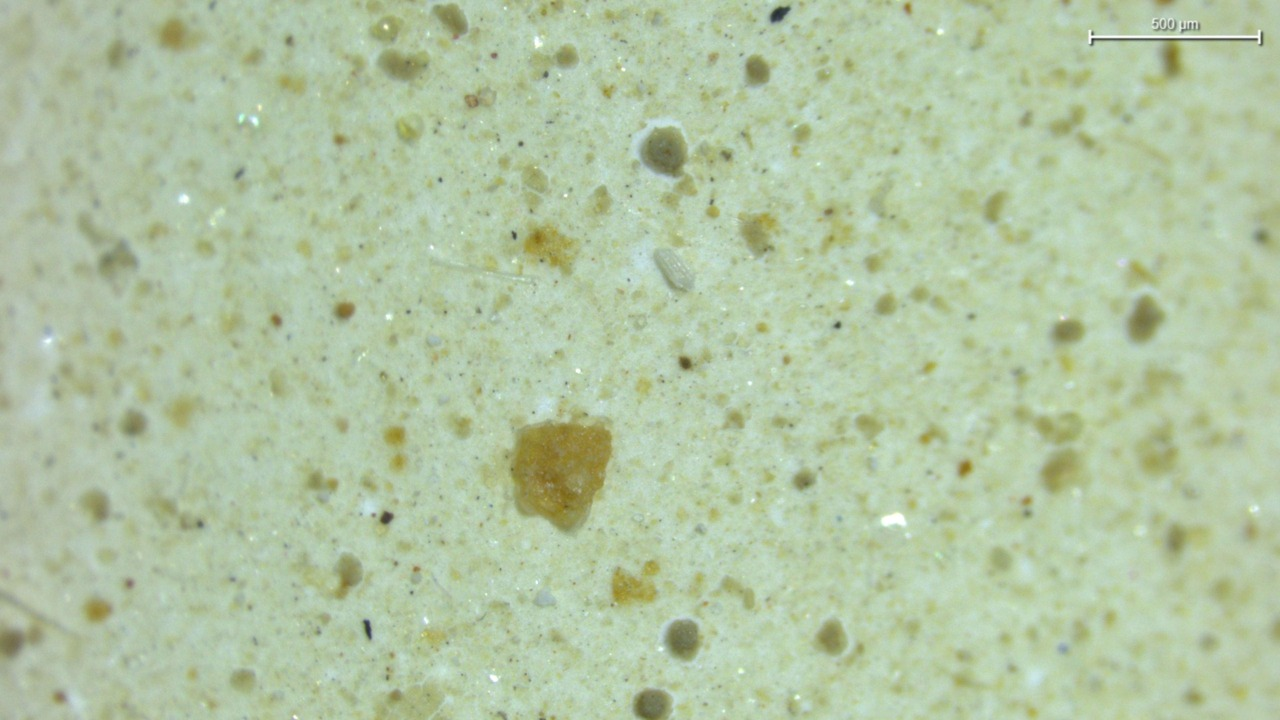microplastic_fragment: (512, 422, 611, 530), (653, 249, 694, 291)
